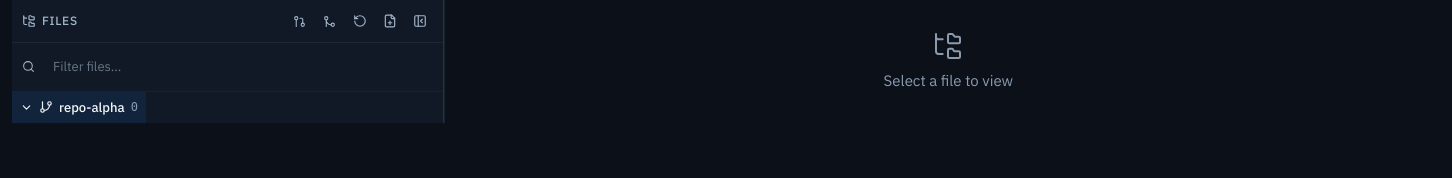
Test case: UnifiedRepoView lazy directory tree › creates a root-level file inline without requiring a prior tree selection
Click the button titled "New file" at (390, 21), box [377,8,403,34]
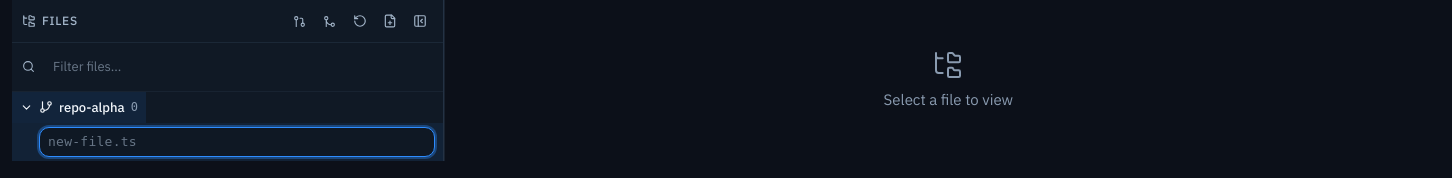
Type "n" into the field with placeholder "new-file.ts" at (237, 142), box [39,127,435,156]
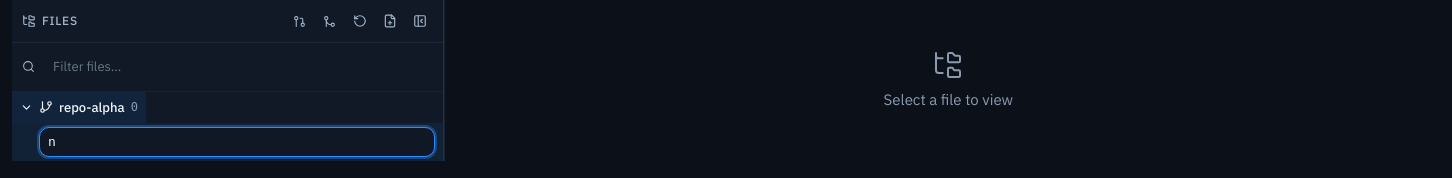
Replace the text in the field with placeholder "new-file.ts" with "notes.ts" at (237, 142), box [39,127,435,156]
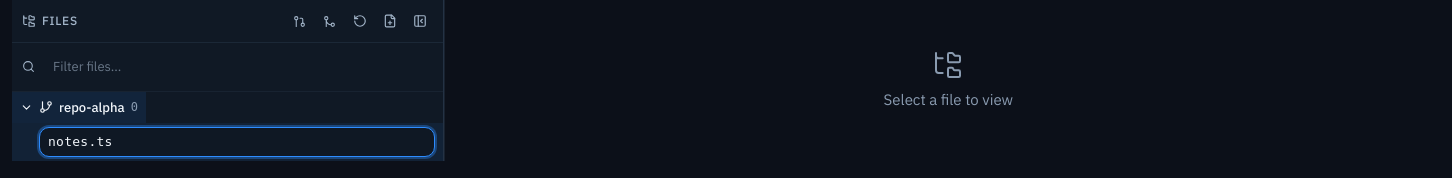
Press Enter in the field with placeholder "new-file.ts", box [39,127,435,156]
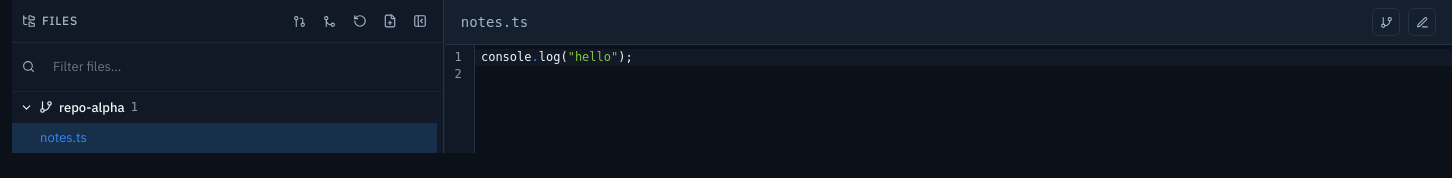
Check: the button titled "notes.ts" is shown, box [12,123,437,152]
